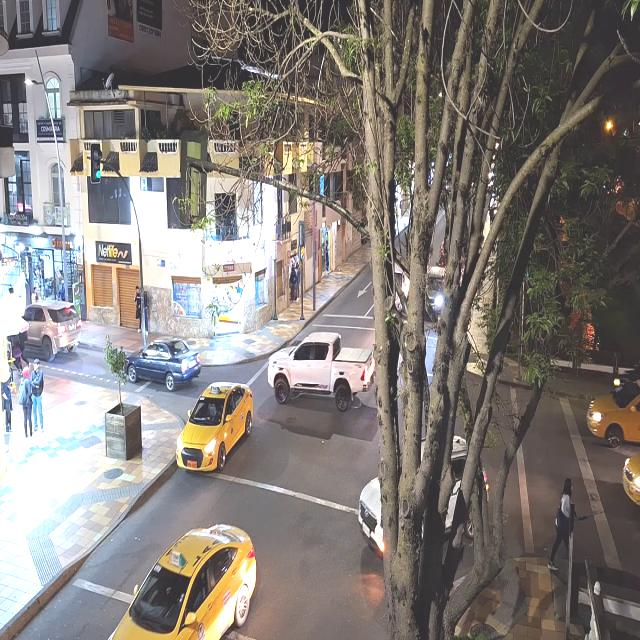CMT: (272, 332, 377, 405)
SED: (105, 528, 252, 638), (180, 386, 246, 472), (123, 341, 200, 386), (623, 446, 640, 507)
SUV: (587, 375, 640, 442), (23, 300, 82, 357)
